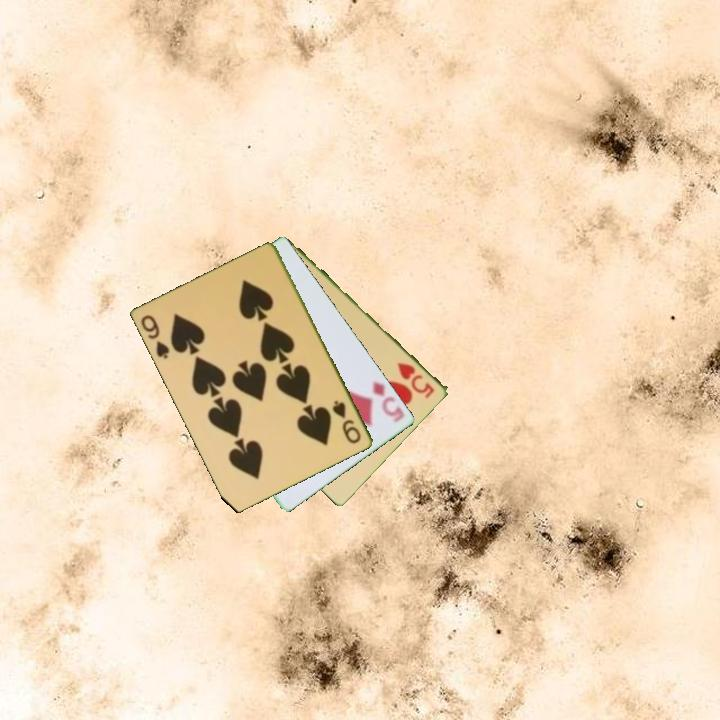5d: (369, 378, 408, 425)
5h: (394, 359, 438, 401)
9s: (138, 311, 173, 362), (329, 397, 364, 447)
